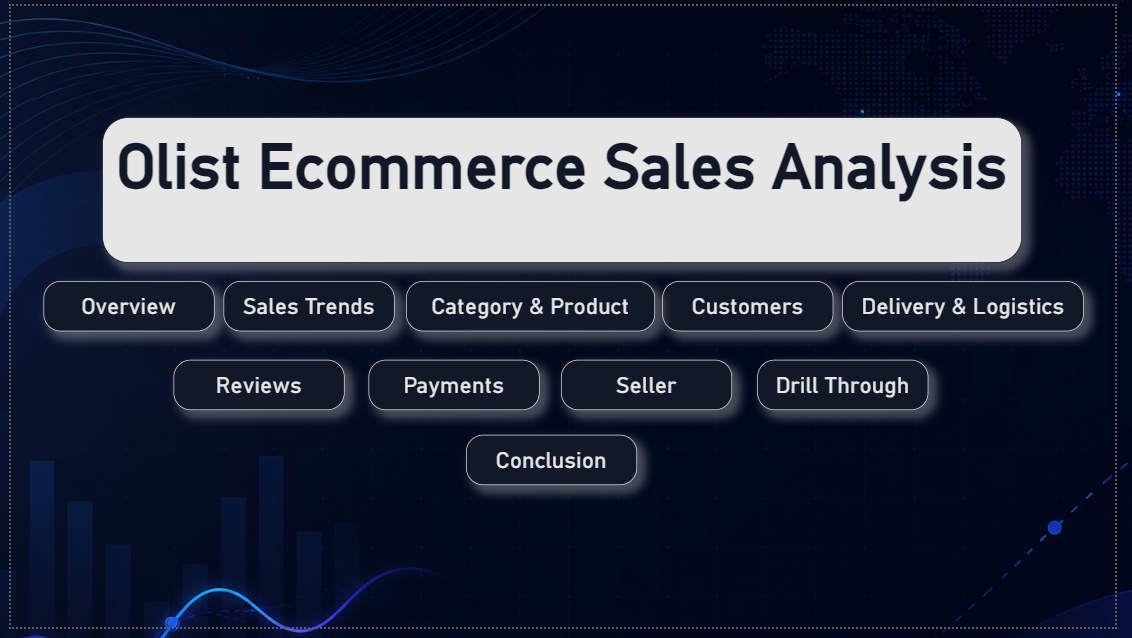

The page's visual inventory and layout, read from the dashboard file:
{"tool":"powerbi","page":{"name":"Home Page","canvas":[1280,720],"ordinal":0},"visuals":[{"type":"textbox","box":[106.4,129.6,1066.3,168.8],"z":0},{"type":"actionButton","box":[37.9,319.2,198.1,58.7],"z":1000},{"type":"actionButton","box":[188.3,409.6,198.1,58.7],"z":2000},{"type":"actionButton","box":[247,319.2,198.1,58.7],"z":3000},{"type":"actionButton","box":[754.5,319.2,198.1,58.7],"z":4000},{"type":"actionButton","box":[414.5,409.6,198.1,58.7],"z":5000},{"type":"actionButton","box":[457.3,319.2,288.6,58.7],"z":6000},{"type":"actionButton","box":[638.3,409.6,198.1,58.7],"z":7000},{"type":"actionButton","box":[963.6,319.2,280,58.7],"z":8000},{"type":"actionButton","box":[864.5,409.6,198.1,58.7],"z":9000},{"type":"actionButton","box":[527,497.7,198.1,58.7],"z":10000}]}

Visuals, with their boxes in screenshot pixels (x1, y1, x2, y2), scaled from the page's 1280x720 canvas onto the 1132x638 screenshot:
textbox: [94, 115, 1037, 264]
actionButton: [34, 283, 209, 335]
actionButton: [167, 363, 342, 415]
actionButton: [218, 283, 394, 335]
actionButton: [667, 283, 842, 335]
actionButton: [367, 363, 542, 415]
actionButton: [404, 283, 660, 335]
actionButton: [564, 363, 740, 415]
actionButton: [852, 283, 1100, 335]
actionButton: [765, 363, 940, 415]
actionButton: [466, 441, 641, 493]
